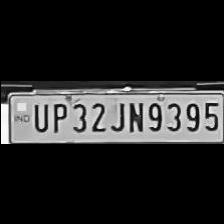2: (86, 97, 106, 132)
3: (68, 97, 86, 132), (164, 98, 182, 132)
5: (200, 97, 220, 131)
9: (143, 97, 161, 131), (182, 98, 200, 132)
J: (107, 97, 125, 132)
N: (125, 97, 143, 132)
P: (47, 98, 66, 132)
U: (28, 98, 48, 132)
